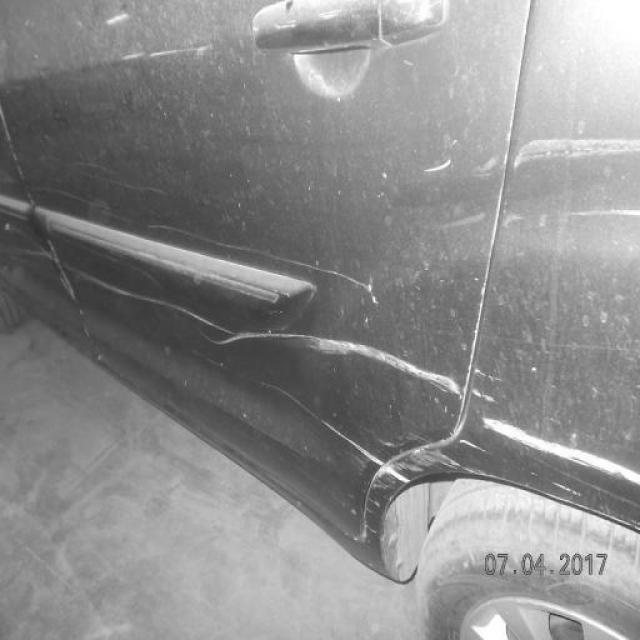scratch: (259, 382, 637, 550), (28, 177, 385, 309), (17, 248, 321, 349), (313, 330, 465, 404), (474, 418, 640, 484), (503, 126, 640, 174), (124, 40, 225, 65), (567, 203, 640, 228), (474, 353, 505, 407), (417, 153, 463, 180), (99, 8, 135, 36)
